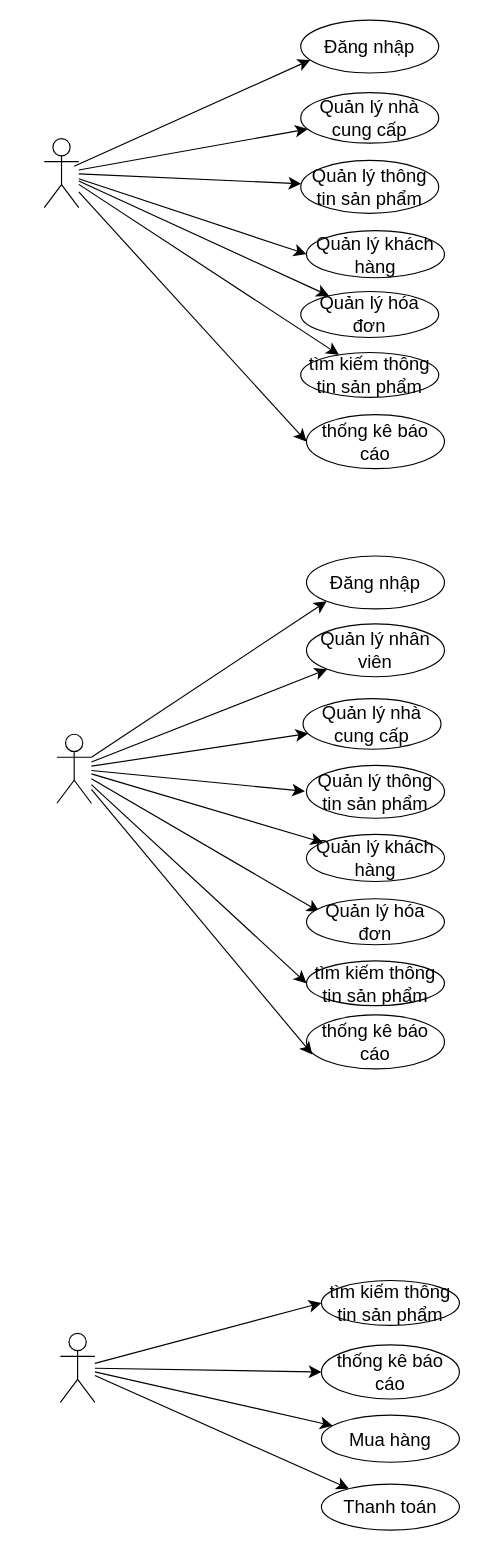
Image size: 480x1562. Some labels were removed from this diagram. Here are the shapes that lost their labels. From the top down, the centre of each, then its label:
point (61, 172): Nhân viên
point (73, 768): Quản lý
point (77, 1367): Khách hàng
